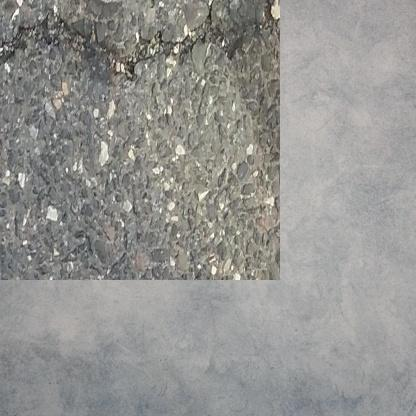Cracks: (0, 22, 28, 65)
